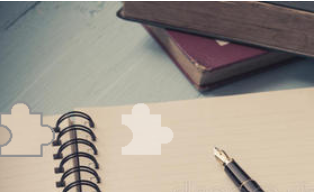target: (118, 100, 174, 158)
